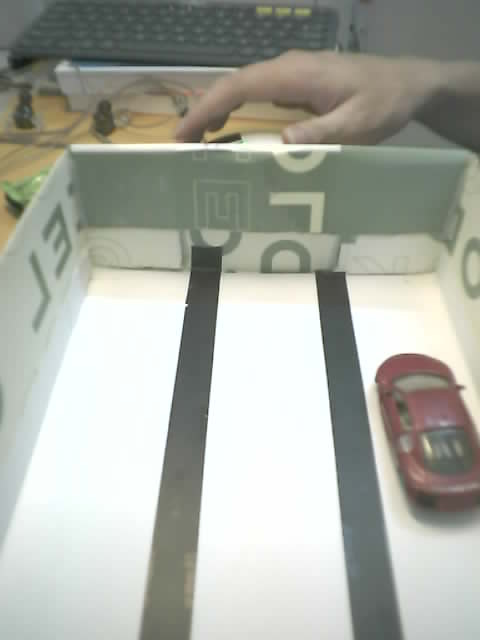vehicle: (374, 353, 465, 534)
